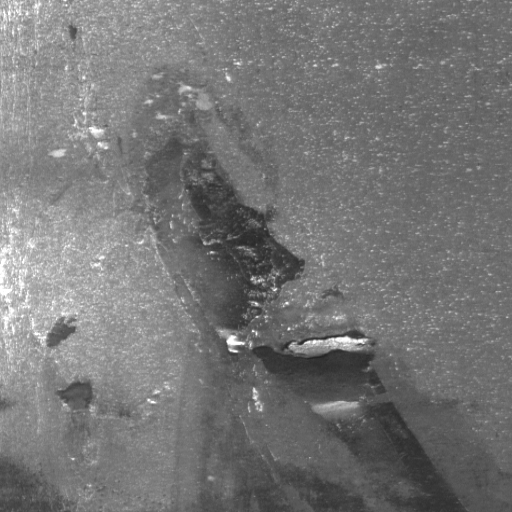qiaopi: (140, 134, 305, 357), (251, 328, 380, 432)
